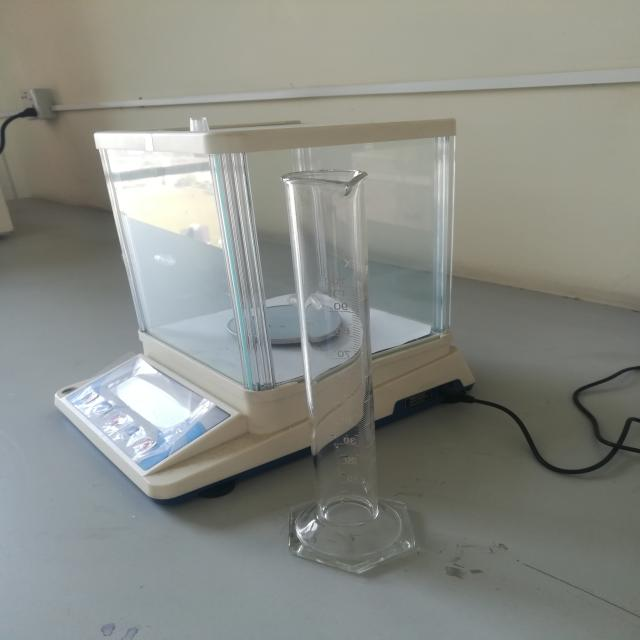Measuring_Cylinder: (254, 123, 449, 594)
